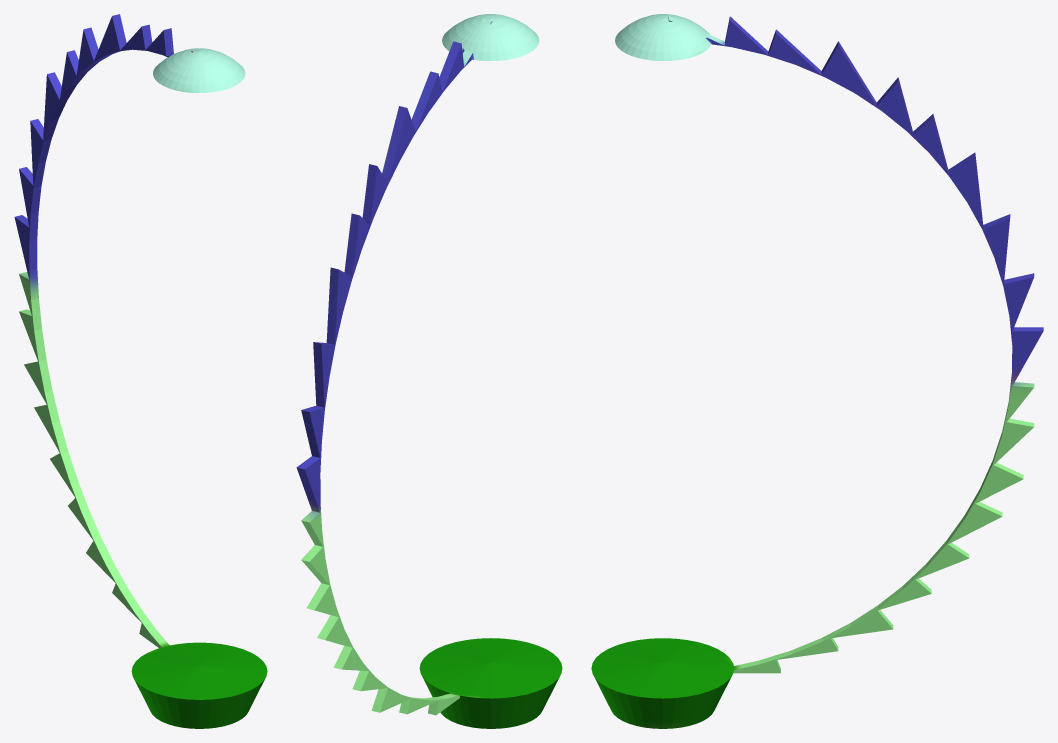
The picture shows the model from 3 angles, left to right: view 1: azimuth 30°, elevation 25°; view 2: azimuth 150°, elevation 25°; view 3: azimuth 270°, elevation 25°; orthographic projection. The views are drawn at different scales.
Visible parts, largest first — view 1: 20140320_littleLine4; view 2: 20140320_littleLine4; view 3: 20140320_littleLine4.
Boxes of the visible parts, x1=… form: 20140320_littleLine4: x1=14, y1=14, x2=267, y2=728; 20140320_littleLine4: x1=296, y1=14, x2=562, y2=728; 20140320_littleLine4: x1=591, y1=14, x2=1043, y2=728.
Size of the model in its own units: 4.22 by 22.45 by 13.36.
1 material, 1 textured.
